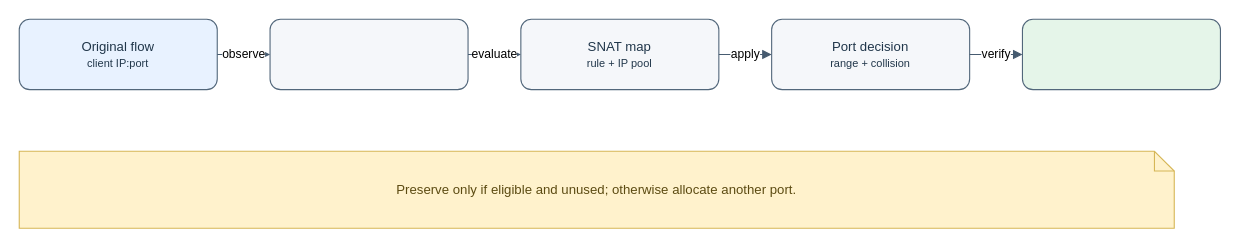
The diagram is 1240 pixels wide and 248 high, and some of its shapes have lost their labels. Each missing label, with the centre of its shape:
"Security policy accept + NAT path" belongs at (x=368, y=54).
"Translated tuple reverse-map state" belongs at (x=1120, y=54).
